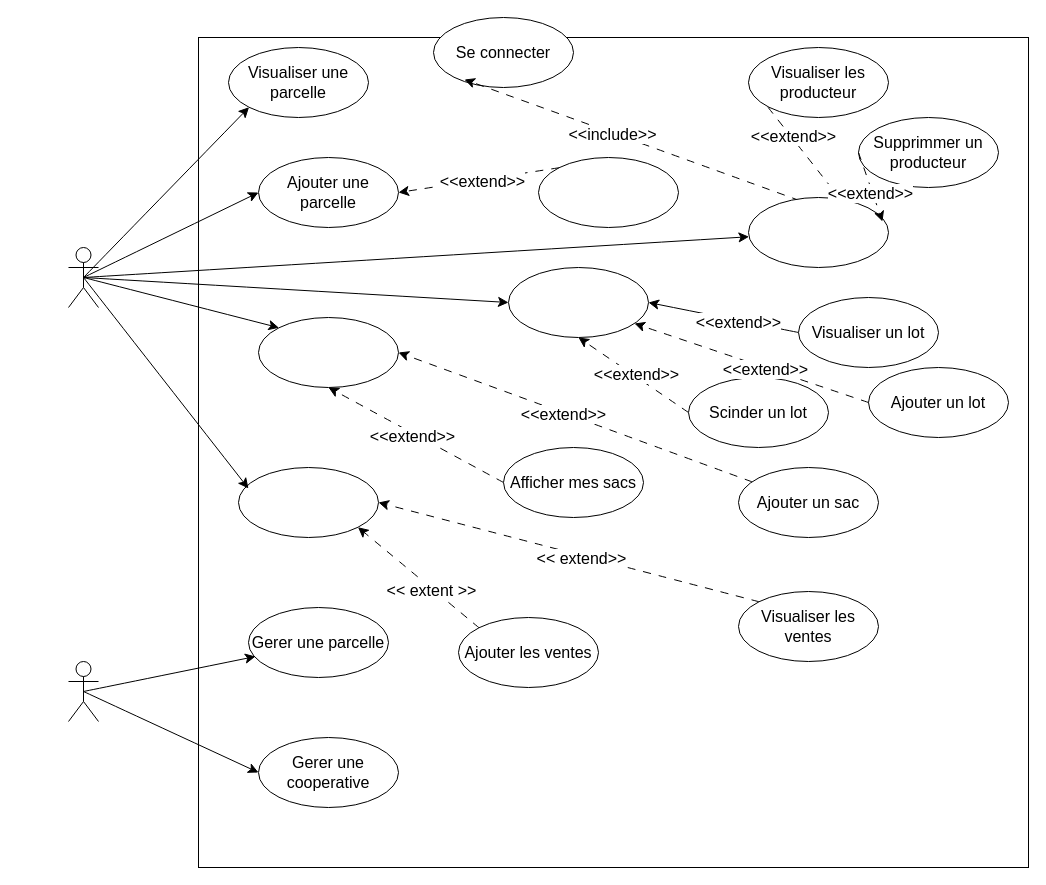
This 1046x885 diagram has some shape labels left out. The shapes that lost their labels are listed below. From the top down, each one's centre as x and y in pixels, then its label:
point 608,192: Ajouter un producteur
point 818,232: Gerer les producteurs
point 83,277: AdminCooperative
point 578,302: Gerer un lot
point 328,352: Gerer les sacs
point 308,502: Gerer les ventes
point 83,691: AdminApplication
